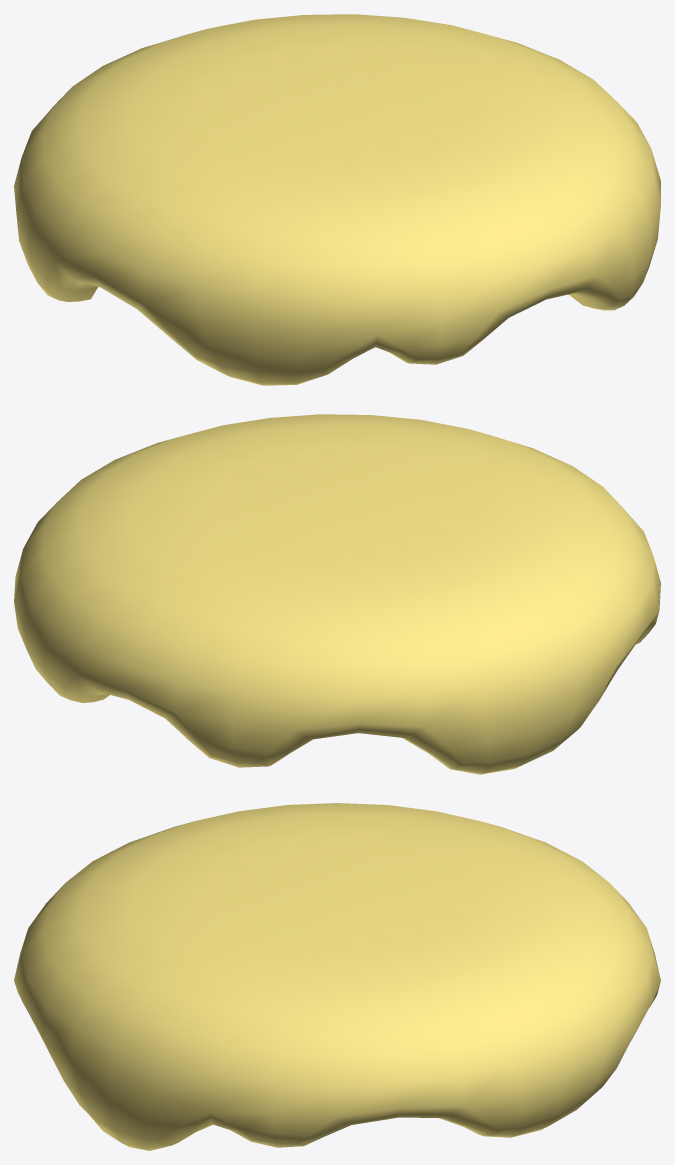
The model's file is Donut_Icing_05.fbx.
3 views of the same model, one above another, from view 1: azimuth 30°, elevation 25°; view 2: azimuth 150°, elevation 25°; view 3: azimuth 270°, elevation 25° (orthographic).
Parts seen in each view (by area): view 1: Donut_Icing_05_LOD0; view 2: Donut_Icing_05_LOD0; view 3: Donut_Icing_05_LOD0.
Part boxes in pixels (x1,y1,x2,y2): Donut_Icing_05_LOD0: (14,14,660,385); Donut_Icing_05_LOD0: (14,414,660,774); Donut_Icing_05_LOD0: (14,803,660,1150).
Size of what is drawn, in the model's own units: 575 by 164 by 576.
